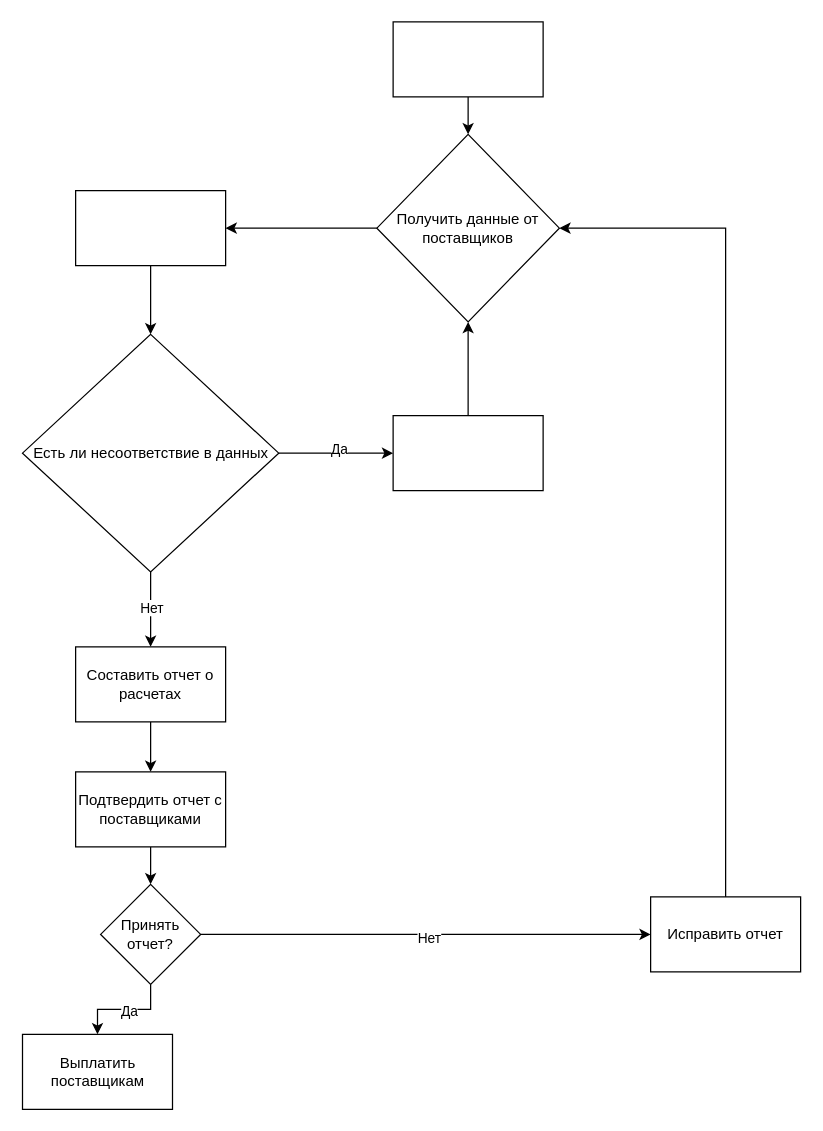
This 823x1131 diagram has some shape labels left out. The box of each missing label's shape, as (x1, y1, x2, y2) in pixels:
Анализ полученных данных: (74, 189, 226, 266)
Исправить данные от поставщиков: (392, 414, 543, 491)
Начать расчеты поставщиков: (392, 21, 543, 97)
